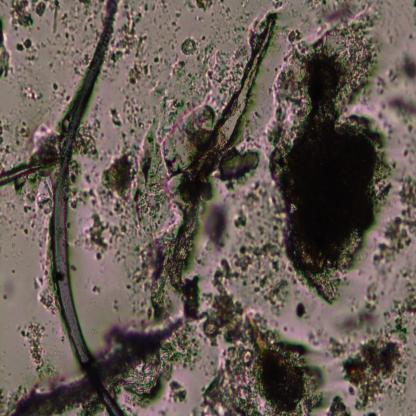Background material: (144, 14, 278, 318), (269, 14, 390, 304), (210, 316, 325, 415), (185, 238, 290, 330), (345, 298, 416, 406), (366, 175, 416, 307), (102, 316, 194, 381), (0, 124, 58, 197), (108, 12, 156, 91), (161, 103, 217, 169), (191, 38, 248, 100), (324, 296, 374, 366), (50, 0, 103, 66), (0, 190, 51, 248), (148, 0, 186, 77), (235, 182, 282, 239), (20, 316, 56, 386), (387, 50, 416, 130), (313, 0, 385, 29), (100, 153, 136, 209), (76, 216, 122, 254), (110, 99, 150, 139), (218, 148, 265, 182), (20, 270, 55, 314), (7, 73, 47, 110), (0, 384, 40, 416), (218, 0, 247, 44), (76, 119, 103, 163), (160, 378, 194, 412), (0, 250, 18, 306), (8, 0, 34, 30), (0, 18, 12, 77), (45, 79, 70, 105), (324, 392, 349, 416), (15, 39, 39, 60), (187, 1, 216, 15), (84, 278, 102, 300), (70, 52, 89, 72), (180, 36, 197, 57), (294, 300, 308, 320), (108, 297, 121, 315), (411, 1, 416, 7)
Microfibre: (50, 0, 125, 416)
